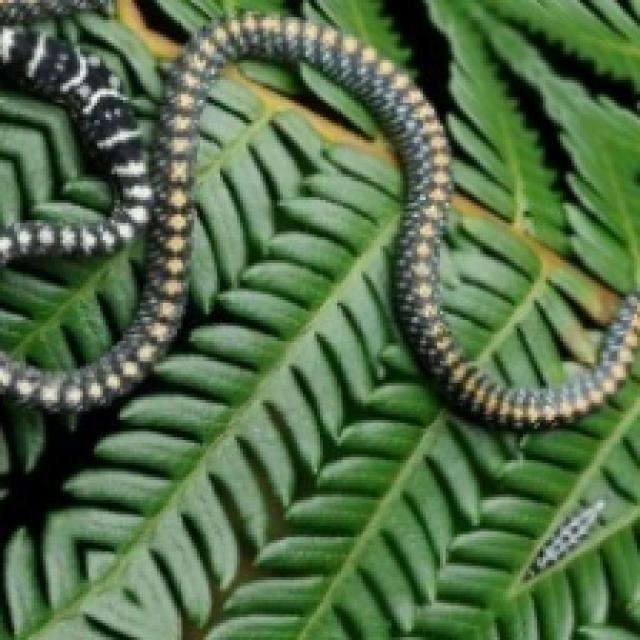paradise tree snake: (0, 14, 637, 429)
